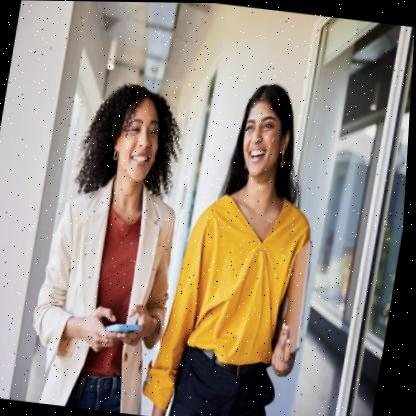person: (144, 73, 348, 416), (12, 70, 207, 416)
